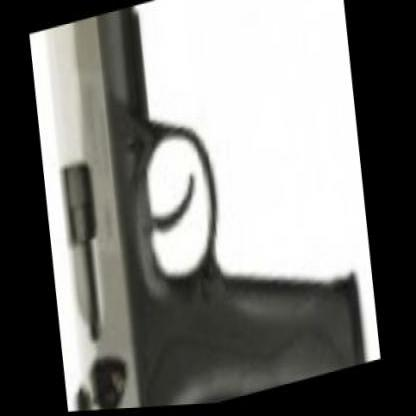pistol: (29, 0, 374, 413)
